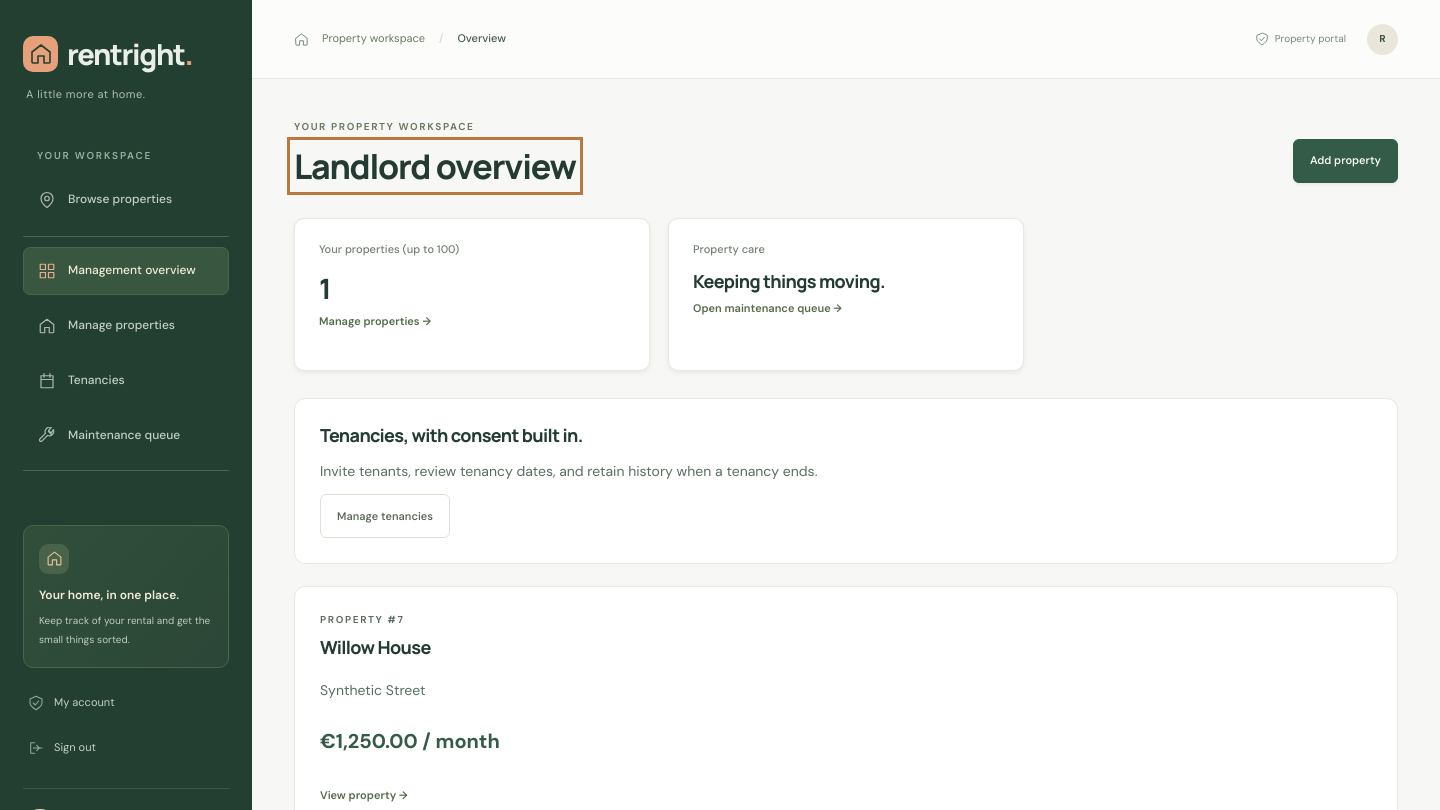
Scenario: signs out with CSRF and clears private property data
Expected: the heading "Willow House" is shown, top-left (320, 636), bottom-right (431, 659)
Click the button "Sign out": click(126, 748) top-left (28, 726), bottom-right (224, 770)
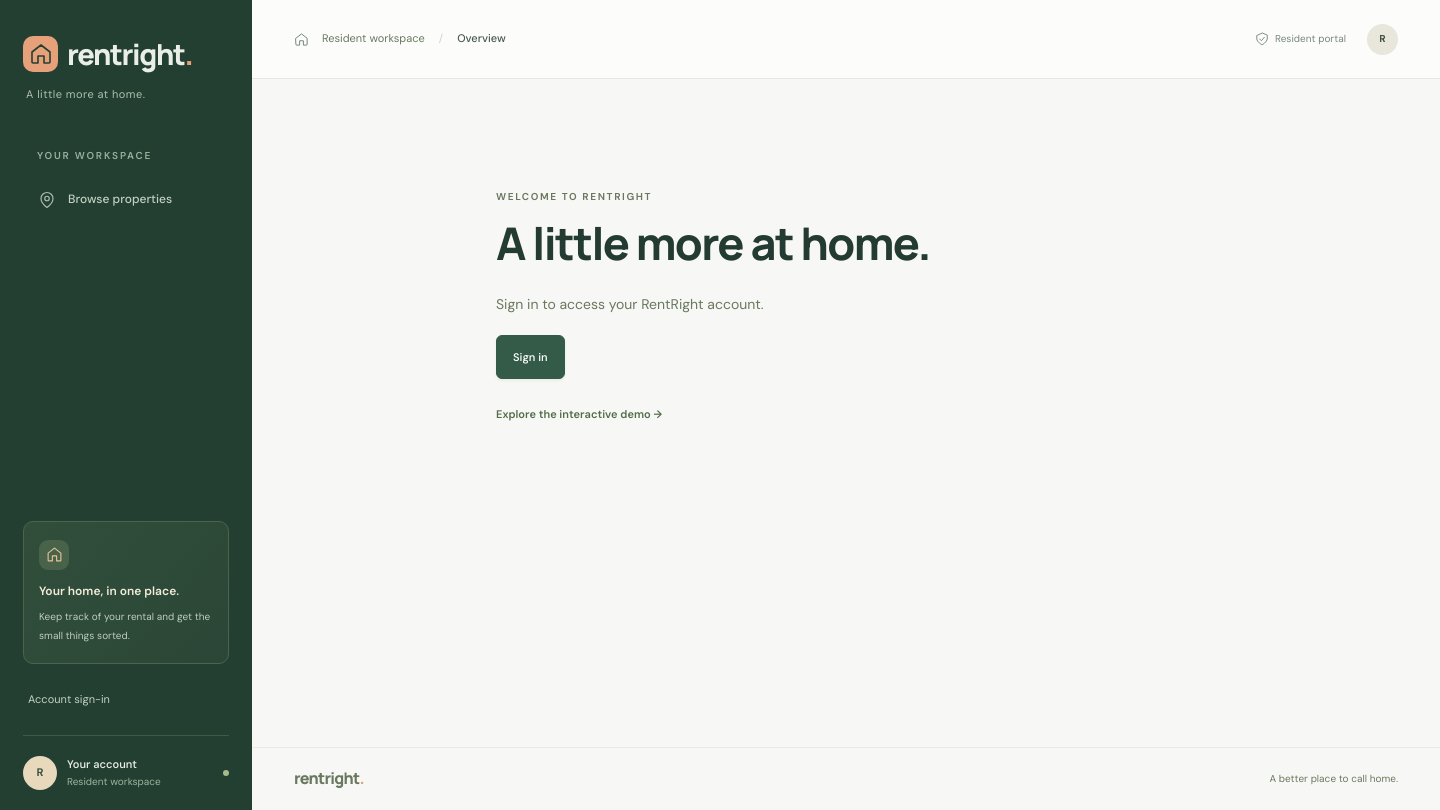
Expected: the text "Sign in to access your RentRight account." is shown, top-left (496, 294), bottom-right (764, 312)
Expected: the link "Willow House" is gone
